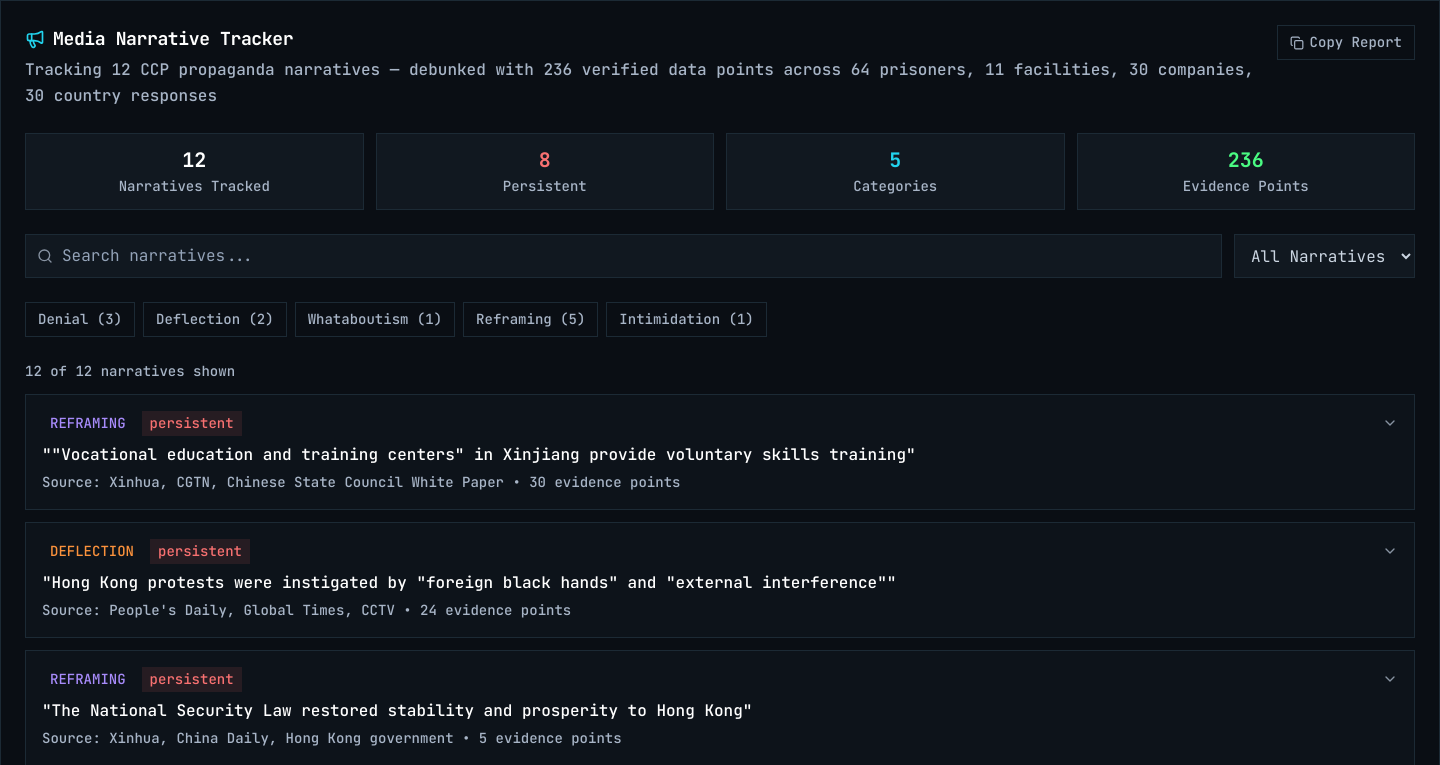
Scenario: MediaNarrativeTracker › expands narrative card on click
Click the button named "\"Vocational education and training centers\" in Xinjiang prov".
click(720, 452)  # box [26,395,1414,509]
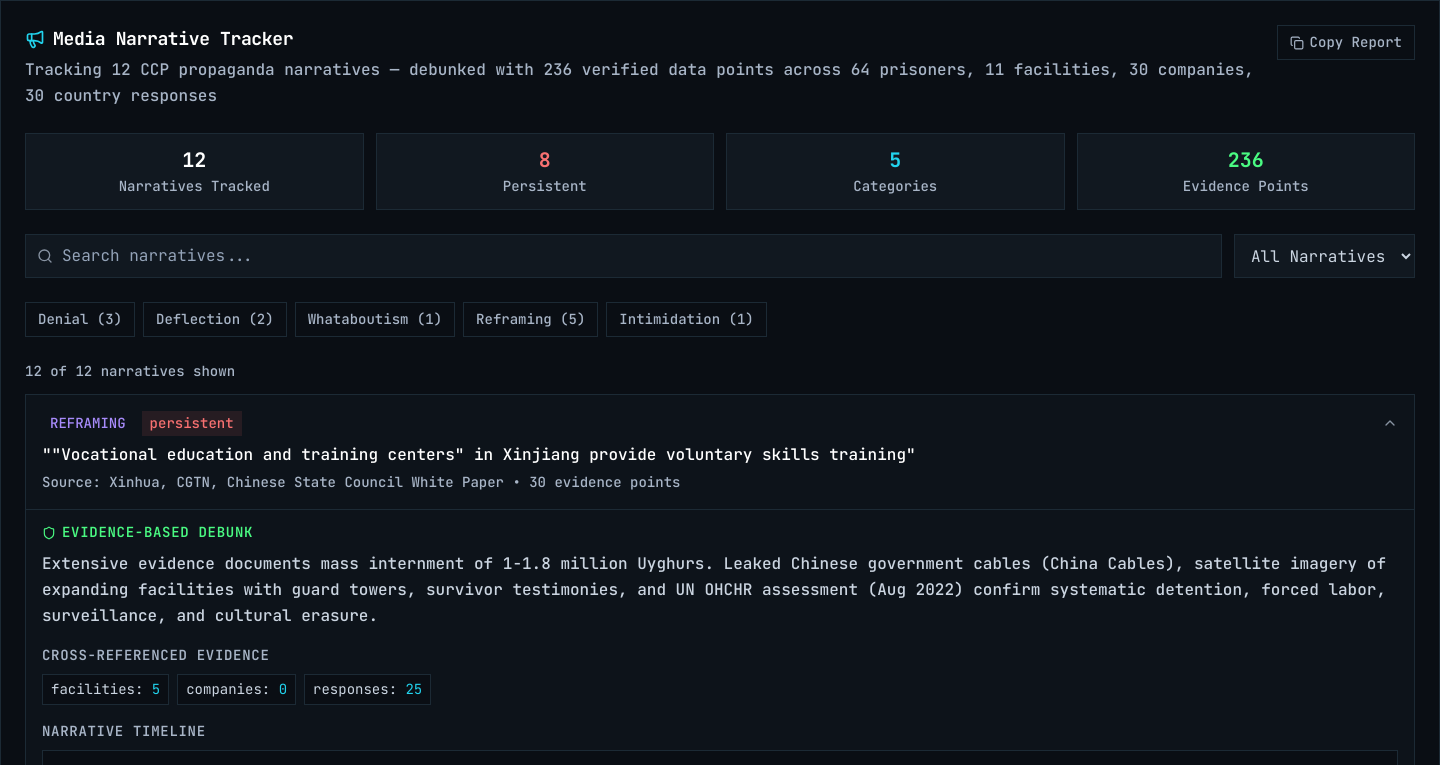
Expected: the heading "Evidence-Based Debunk" is shown, [42,523,253,541]
